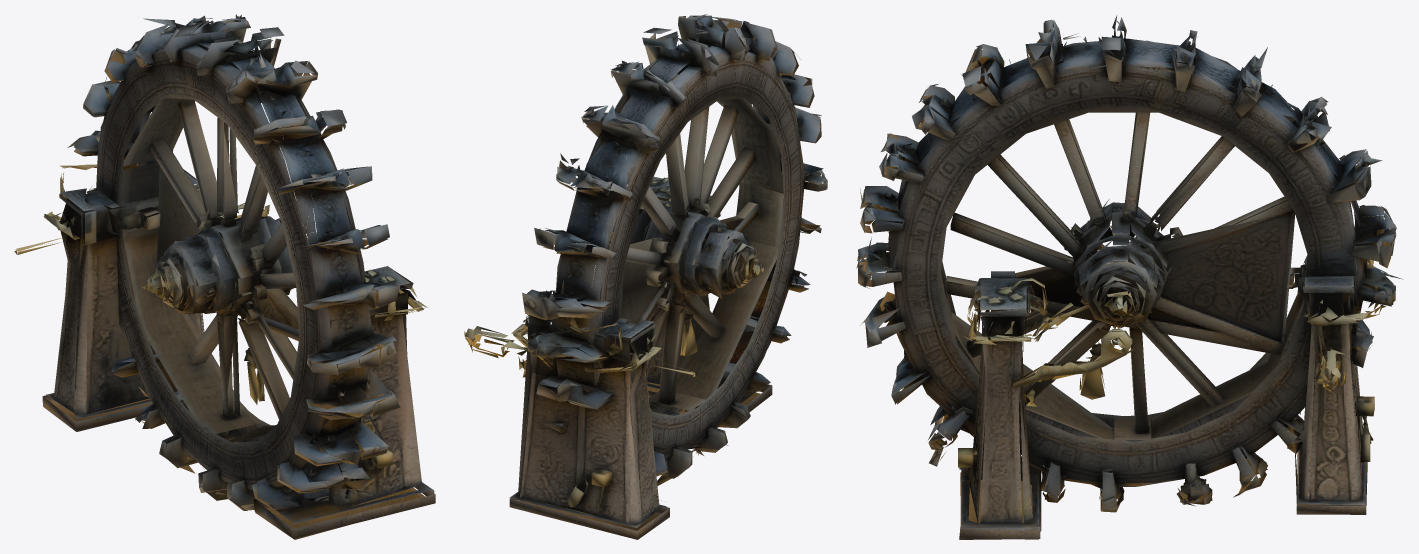
The model's file is ch6_great_hydraulic_wheel_LOD2.glb.
The picture shows the model from 3 angles, left to right: view 1: azimuth 30°, elevation 25°; view 2: azimuth 150°, elevation 25°; view 3: azimuth 270°, elevation 25°; orthographic projection. The views are drawn at different scales.
Parts seen in each view (by area): view 1: tripo_node_3a9f80ba-cd3d-47f6-89a2-44492e5448fd; view 2: tripo_node_3a9f80ba-cd3d-47f6-89a2-44492e5448fd; view 3: tripo_node_3a9f80ba-cd3d-47f6-89a2-44492e5448fd.
Part boxes in pixels (x1,y1,x2,y2): tripo_node_3a9f80ba-cd3d-47f6-89a2-44492e5448fd: [14, 14, 435, 539]; tripo_node_3a9f80ba-cd3d-47f6-89a2-44492e5448fd: [464, 14, 827, 539]; tripo_node_3a9f80ba-cd3d-47f6-89a2-44492e5448fd: [856, 15, 1402, 539].
Size of the model in its own units: 0.5559 by 0.9799 by 1.02.
Materials: 1 (1 with a texture image).
